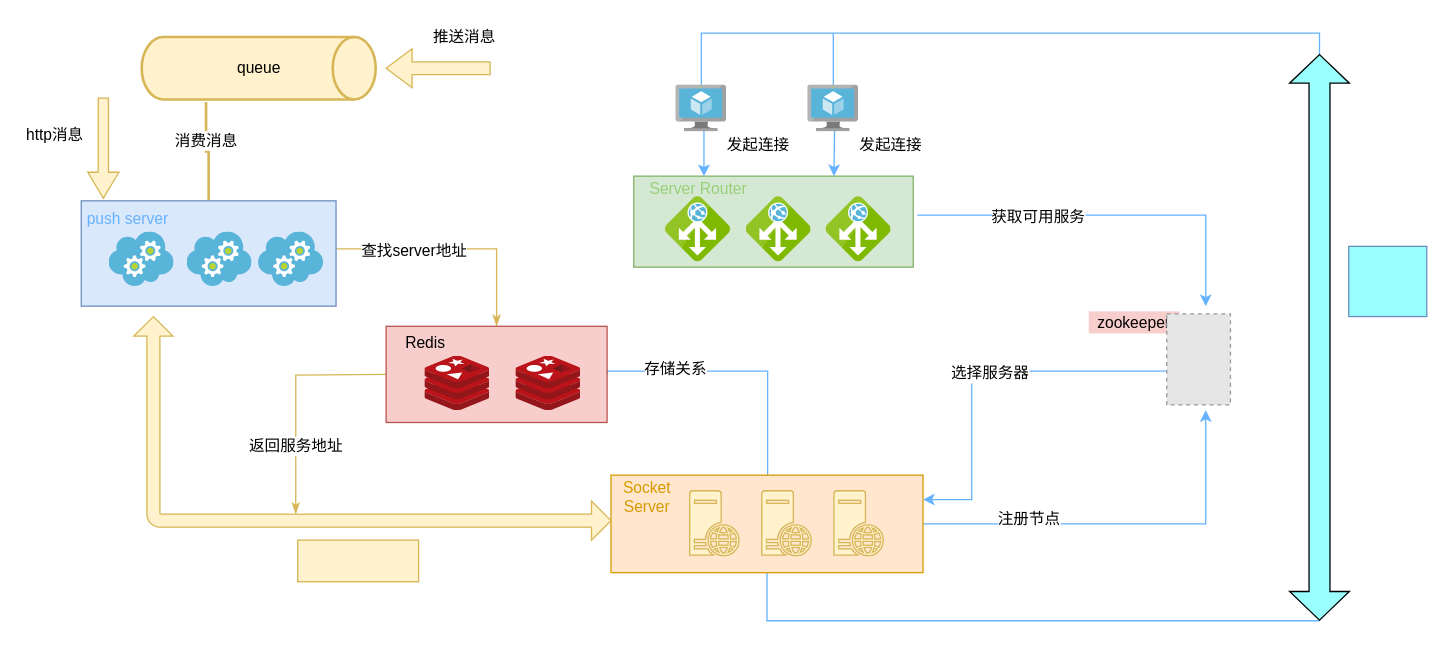
The diagram is 1450 pixels wide and 645 high, and some of its shapes have lost their labels. Grey dashed boxes stand in for pictures. The shapes that lost their labels are listed below. From the top down, each one's centre as x and y in pixels, then its label:
At point 1387,281: "TCP长链接管道".
At point 357,560: "TCP推送管道".
